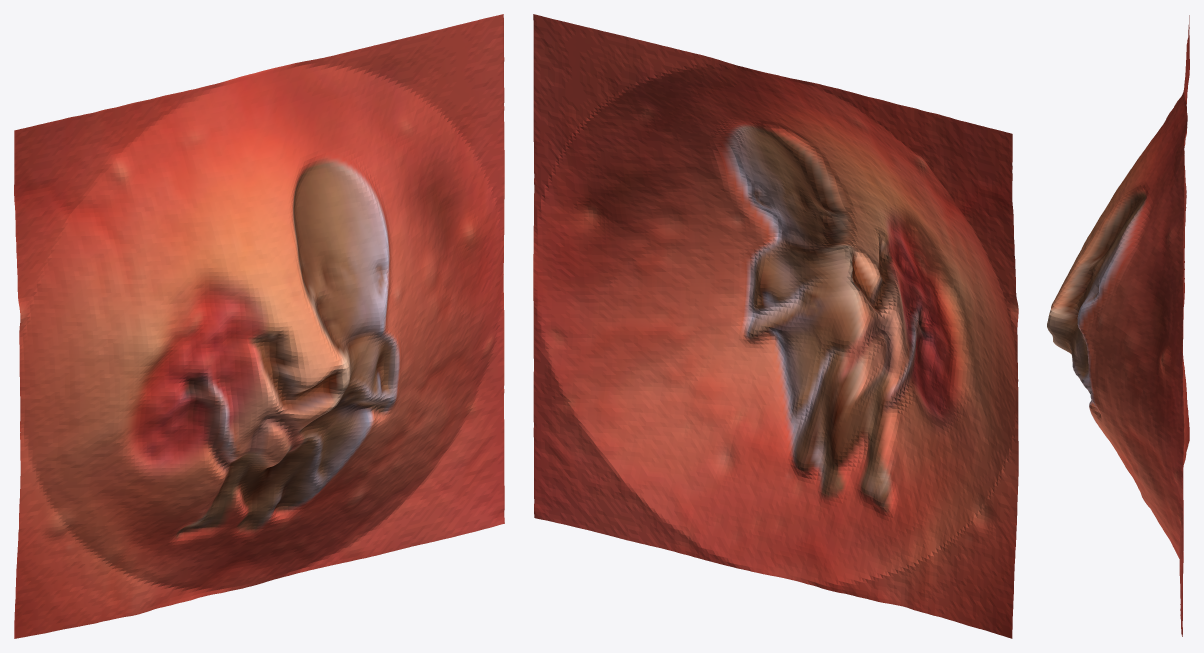
Rendered from week16.glb.
The picture shows the model from 3 angles, left to right: view 1: azimuth 30°, elevation 25°; view 2: azimuth 150°, elevation 25°; view 3: azimuth 270°, elevation 25°; orthographic projection. The views are drawn at different scales.
Visible parts, largest first — view 1: world; view 2: world; view 3: world.
Boxes of the visible parts, left/top/right/bottom form: world: left=14, top=14, right=504, bottom=638; world: left=533, top=14, right=1018, bottom=638; world: left=1047, top=15, right=1189, bottom=636.
Bounding box in the file's own units: 2 × 2 × 0.608.
1 material, 1 textured.
